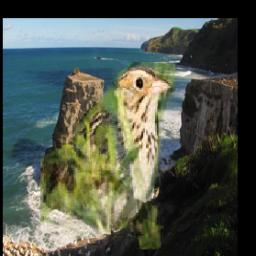Sparrow: (39, 62, 174, 249)
